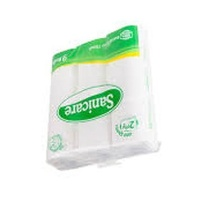tissue: (38, 16, 168, 179)
